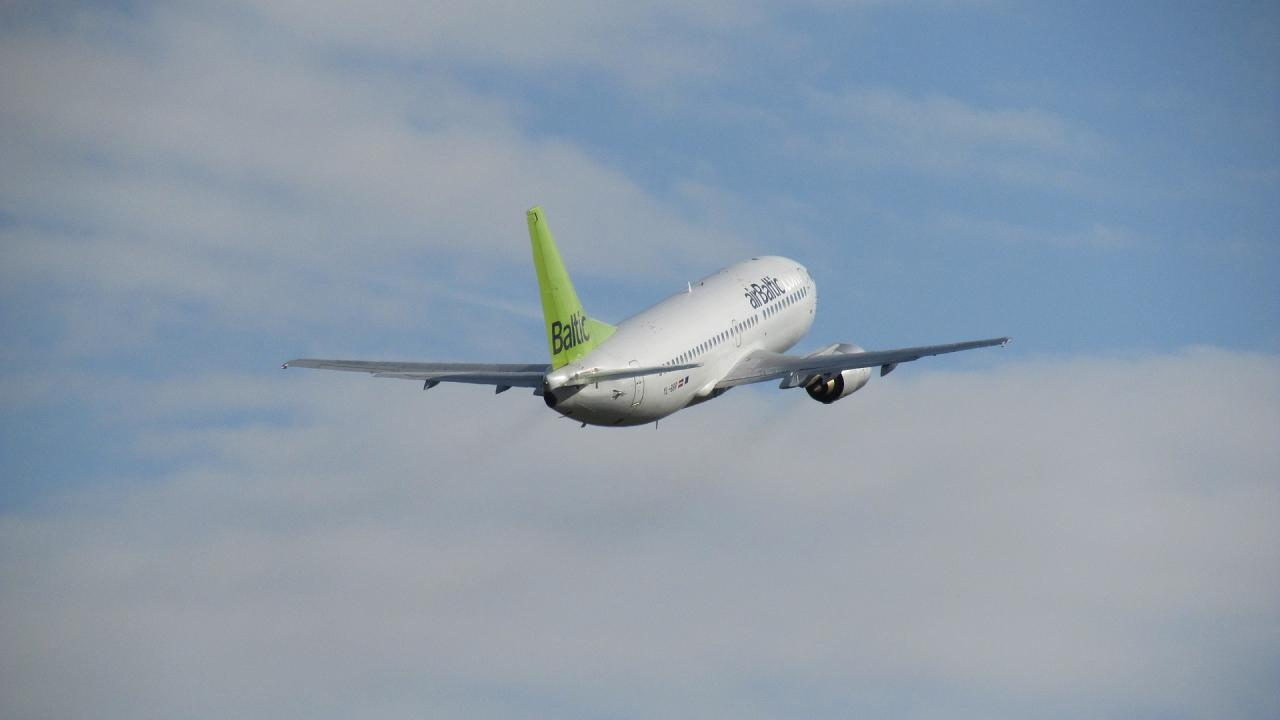Airplane: (274, 196, 1018, 436)
